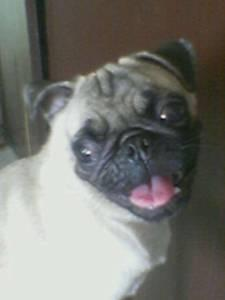dog-pug: (21, 36, 200, 219)
